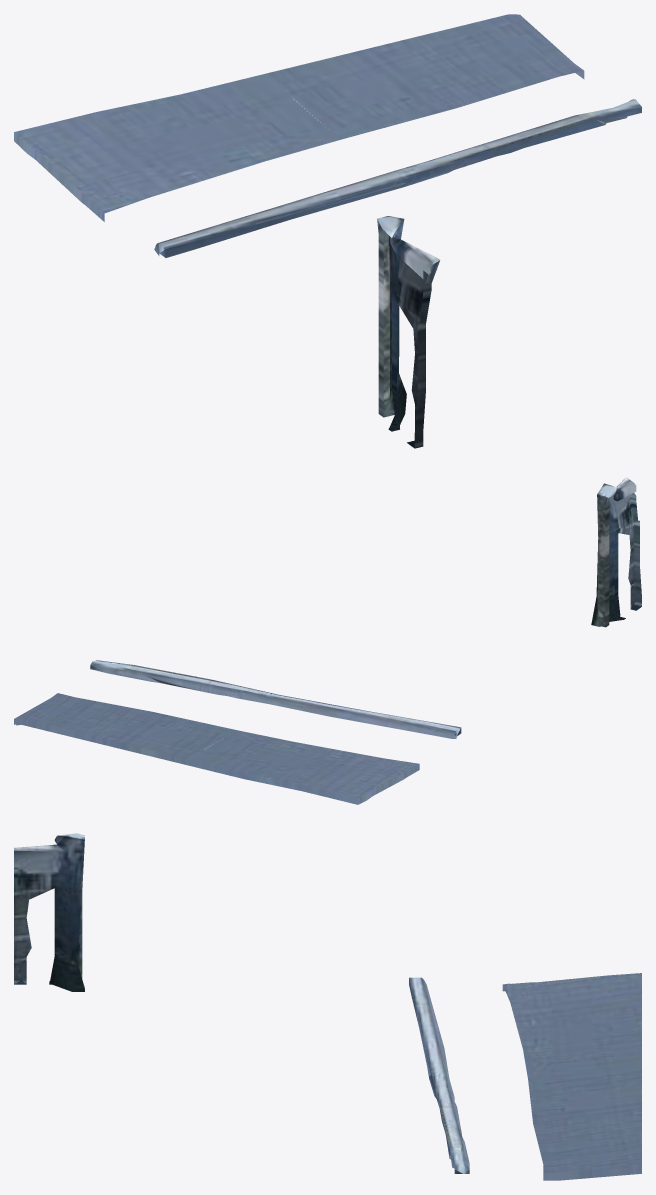
3 renders of one model, top to bottom at view 1: azimuth 30°, elevation 25°; view 2: azimuth 150°, elevation 25°; view 3: azimuth 270°, elevation 25°, orthographic. The views are drawn at different scales.
Visible parts, largest first — view 1: 30436272704361535534_0; view 2: 30436272704361535534_0; view 3: 30436272704361535534_0.
Part boxes in pixels (x1,y1,x2,y2): 30436272704361535534_0: (14,14,641,448); 30436272704361535534_0: (14,477,641,804); 30436272704361535534_0: (14,833,641,1180).
Size of the model in its own units: 27.77 by 10.79 by 38.26.
Materials: 1 (1 with a texture image).
